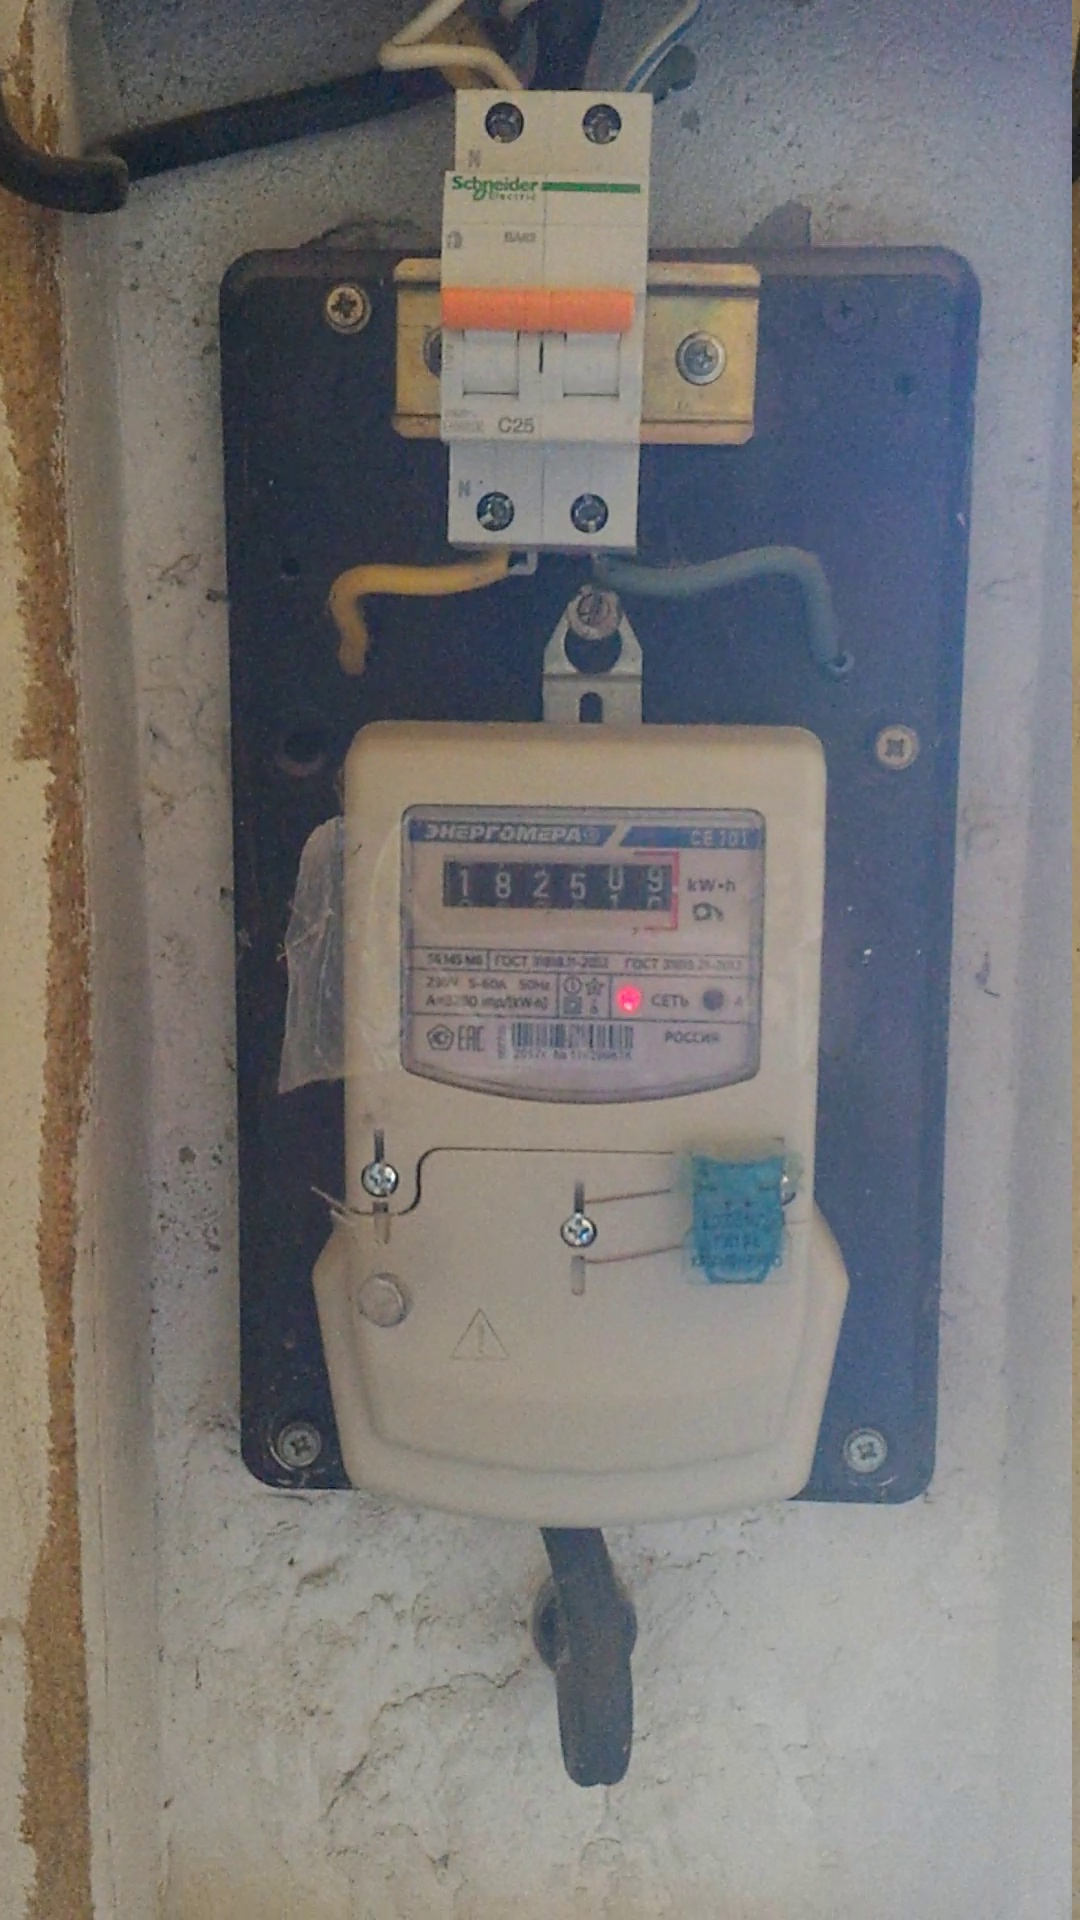counter: (332, 738, 828, 1511)
counter_screen: (440, 857, 676, 914)
